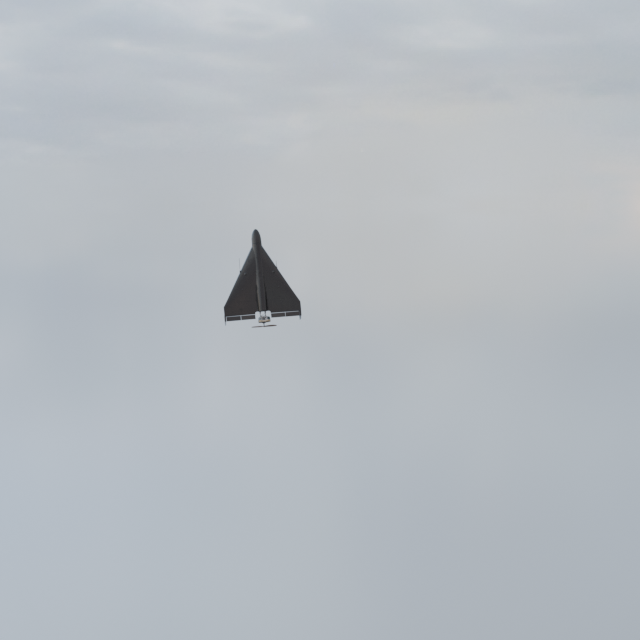shahed: (224, 229, 302, 328)
